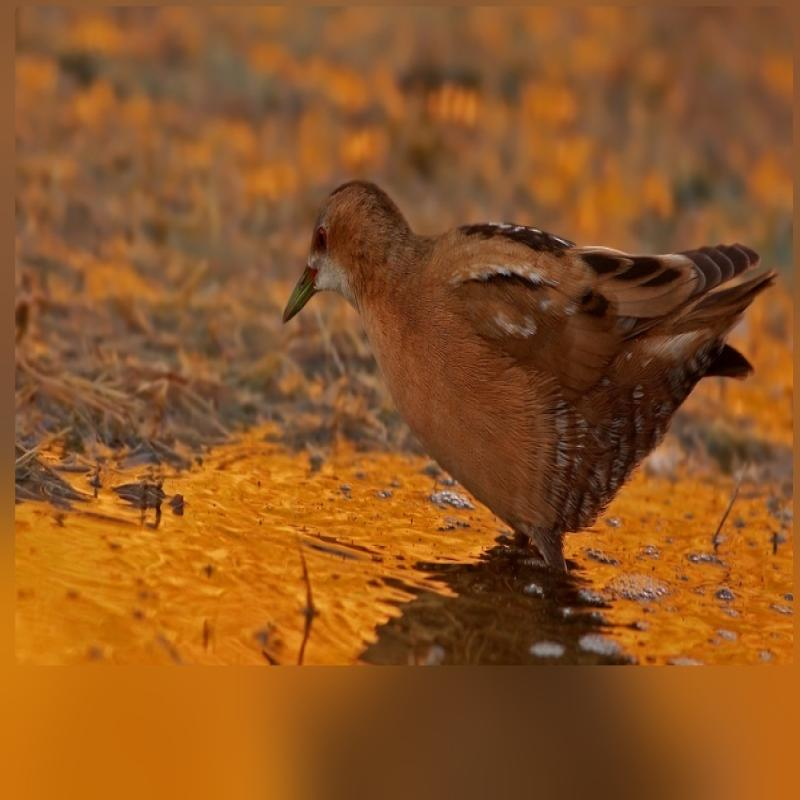little crake: (275, 170, 780, 550)
